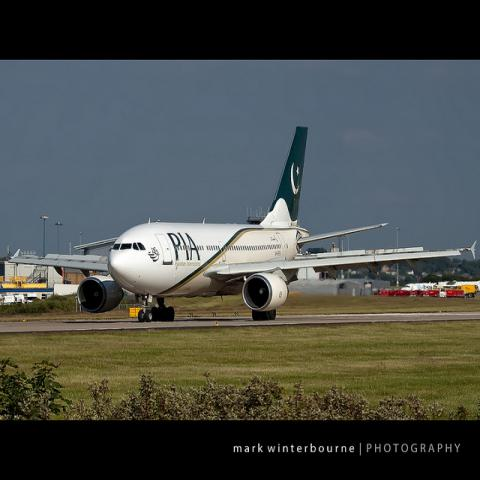truck: (454, 285, 477, 298), (406, 287, 419, 298), (440, 288, 446, 296)
